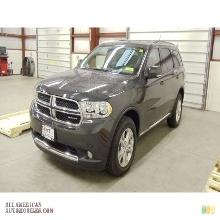no damage: (29, 39, 185, 176)
